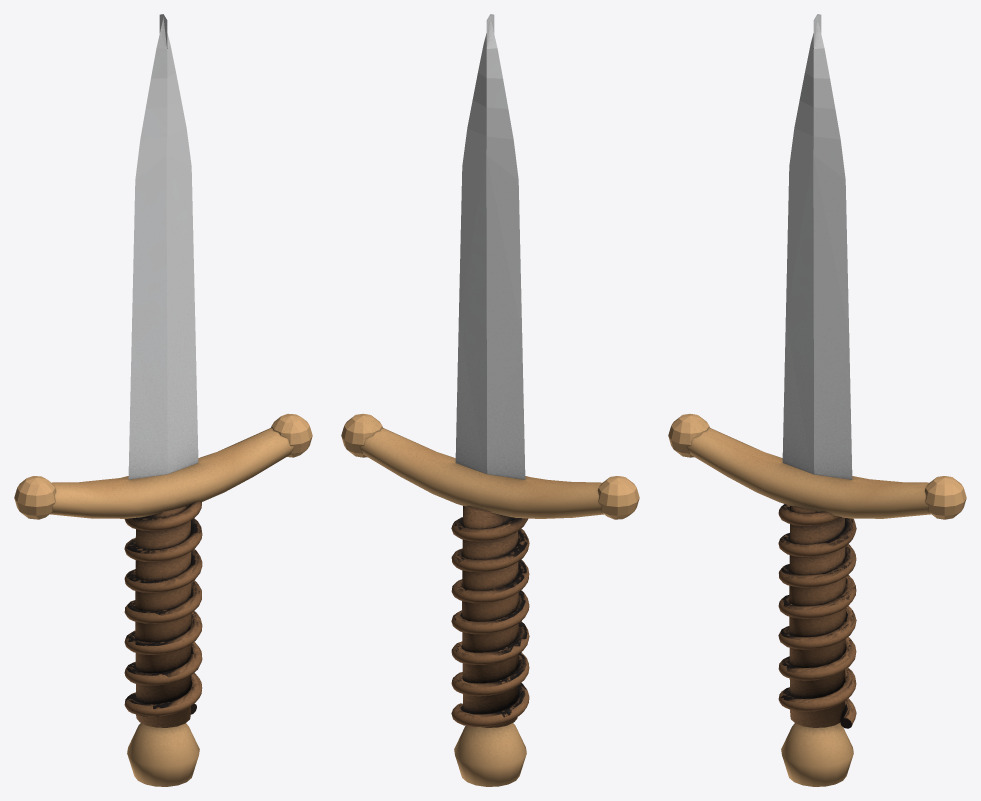
Rendered from arma_adaga_refinada.glb.
The picture shows the model from 3 angles, left to right: view 1: azimuth 30°, elevation 25°; view 2: azimuth 150°, elevation 25°; view 3: azimuth 330°, elevation 25°; orthographic projection.
Parts seen in each view (by area): view 1: arma_adaga_refinada; view 2: arma_adaga_refinada; view 3: arma_adaga_refinada.
Boxes of the visible parts, x1,y1,x2,y2 form: arma_adaga_refinada: (14,14,312,786); arma_adaga_refinada: (341,14,639,786); arma_adaga_refinada: (668,14,966,786).
Size of the model in its own units: 0.184 by 0.461 by 0.0425.
Materials: 1 (1 with a texture image).
